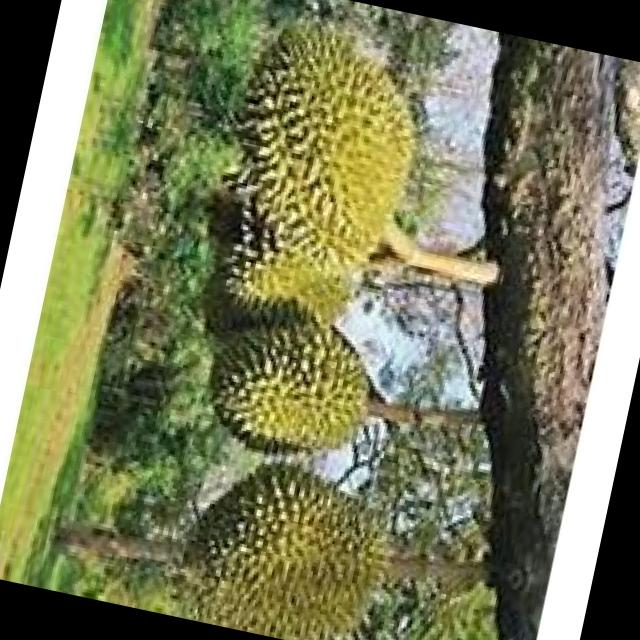fruit: (143, 0, 484, 383), (26, 376, 459, 640), (164, 270, 418, 506)
